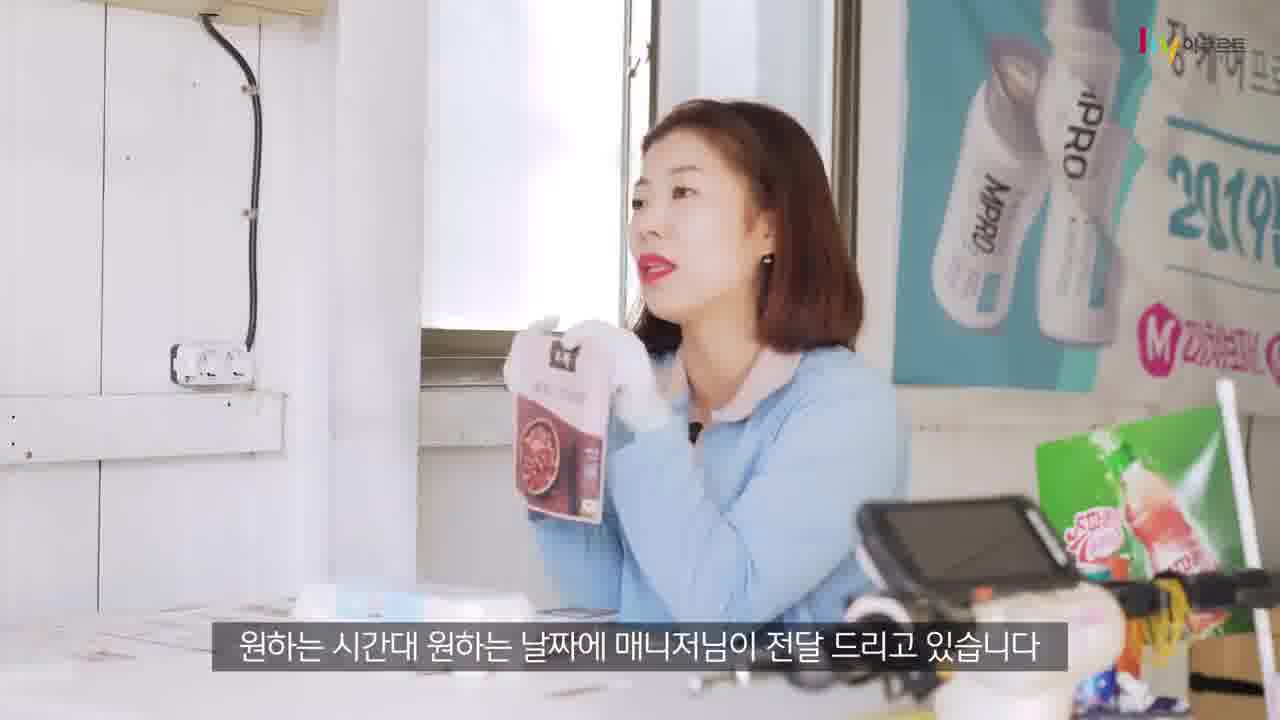Yakurut: (480, 88, 929, 635)
